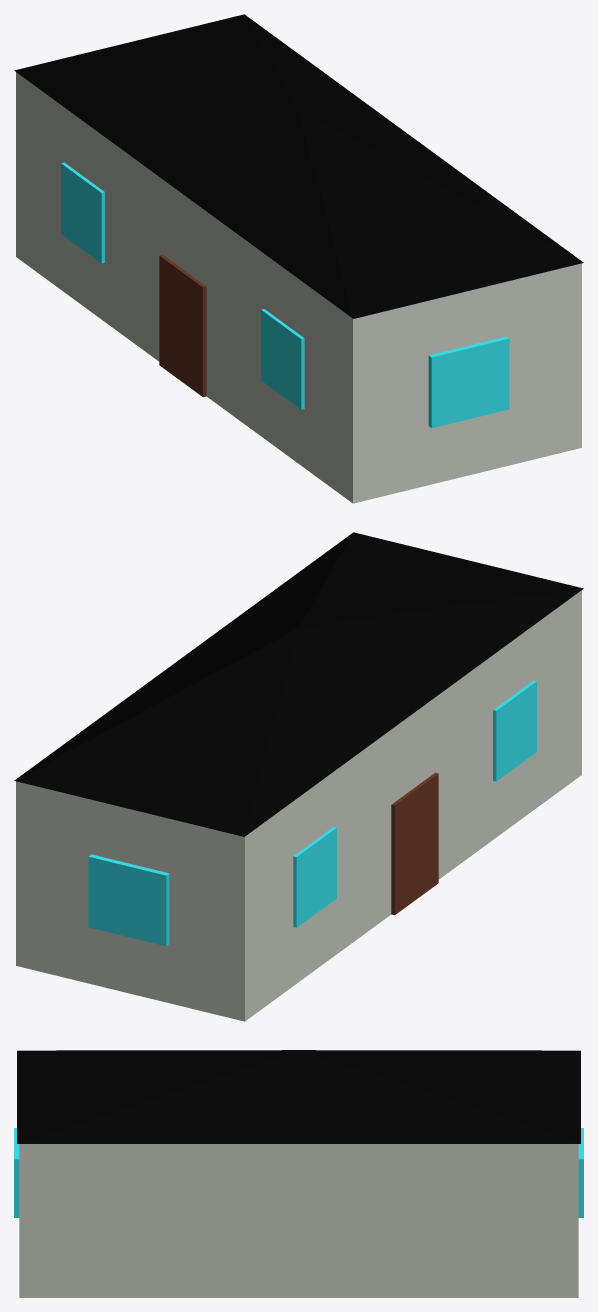
File: house3.gltf
The picture shows the model from 3 angles, top to bottom: view 1: azimuth 30°, elevation 25°; view 2: azimuth 150°, elevation 25°; view 3: azimuth 270°, elevation 25°; orthographic projection. The views are drawn at different scales.
Parts seen in each view (by area): view 1: house, Cone, Cube.003, door, Cube.001, Cube.002; view 2: house, Cone, Cube.004, door, Cube.001, Cube.002; view 3: house, Cone, Cube.003, Cube.004.
Part boxes in pixels (<box>): house: <box>16,72,581,503</box>; Cone: <box>14,14,583,318</box>; Cube.003: <box>428,336,509,428</box>; door: <box>159,254,206,397</box>; Cube.001: <box>61,162,104,263</box>; Cube.002: <box>261,309,304,409</box>; house: <box>16,590,581,1021</box>; Cone: <box>14,532,583,836</box>; Cube.004: <box>88,854,169,946</box>; door: <box>391,772,438,915</box>; Cube.001: <box>293,827,336,927</box>; Cube.002: <box>493,680,536,781</box>; house: <box>19,1144,578,1297</box>; Cone: <box>17,1050,580,1143</box>; Cube.003: <box>14,1128,19,1217</box>; Cube.004: <box>578,1128,583,1217</box>.
Bounding box in the file's own units: 14.26 × 14.19 × 36.39.
